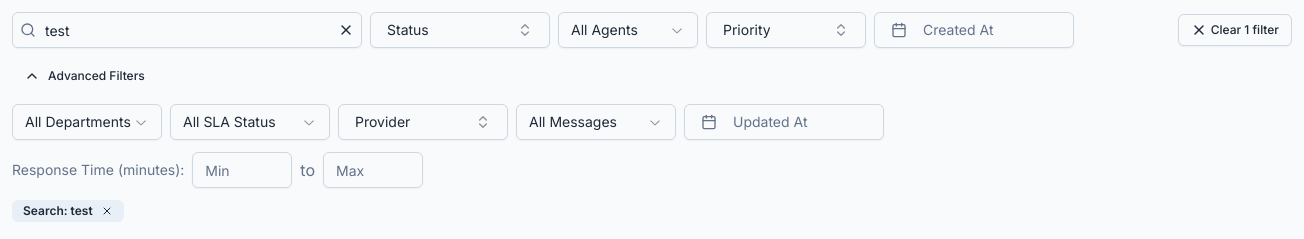
Test: ChatViewFilters › Clear All Filters › should clear search input when clear button is clicked
Step 1. Click the button "Clear 1 filter" → (1235, 30), box [1178,14,1292,46]
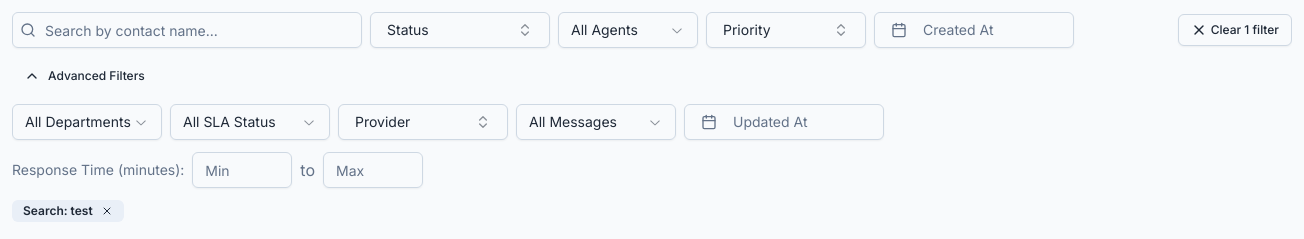
Now the field with placeholder "Search by contact name..." is empty, box [12,12,362,48]
